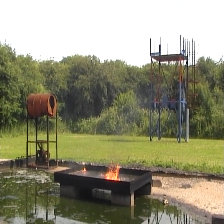fire_l: (100, 161, 120, 180), (79, 165, 86, 172)
